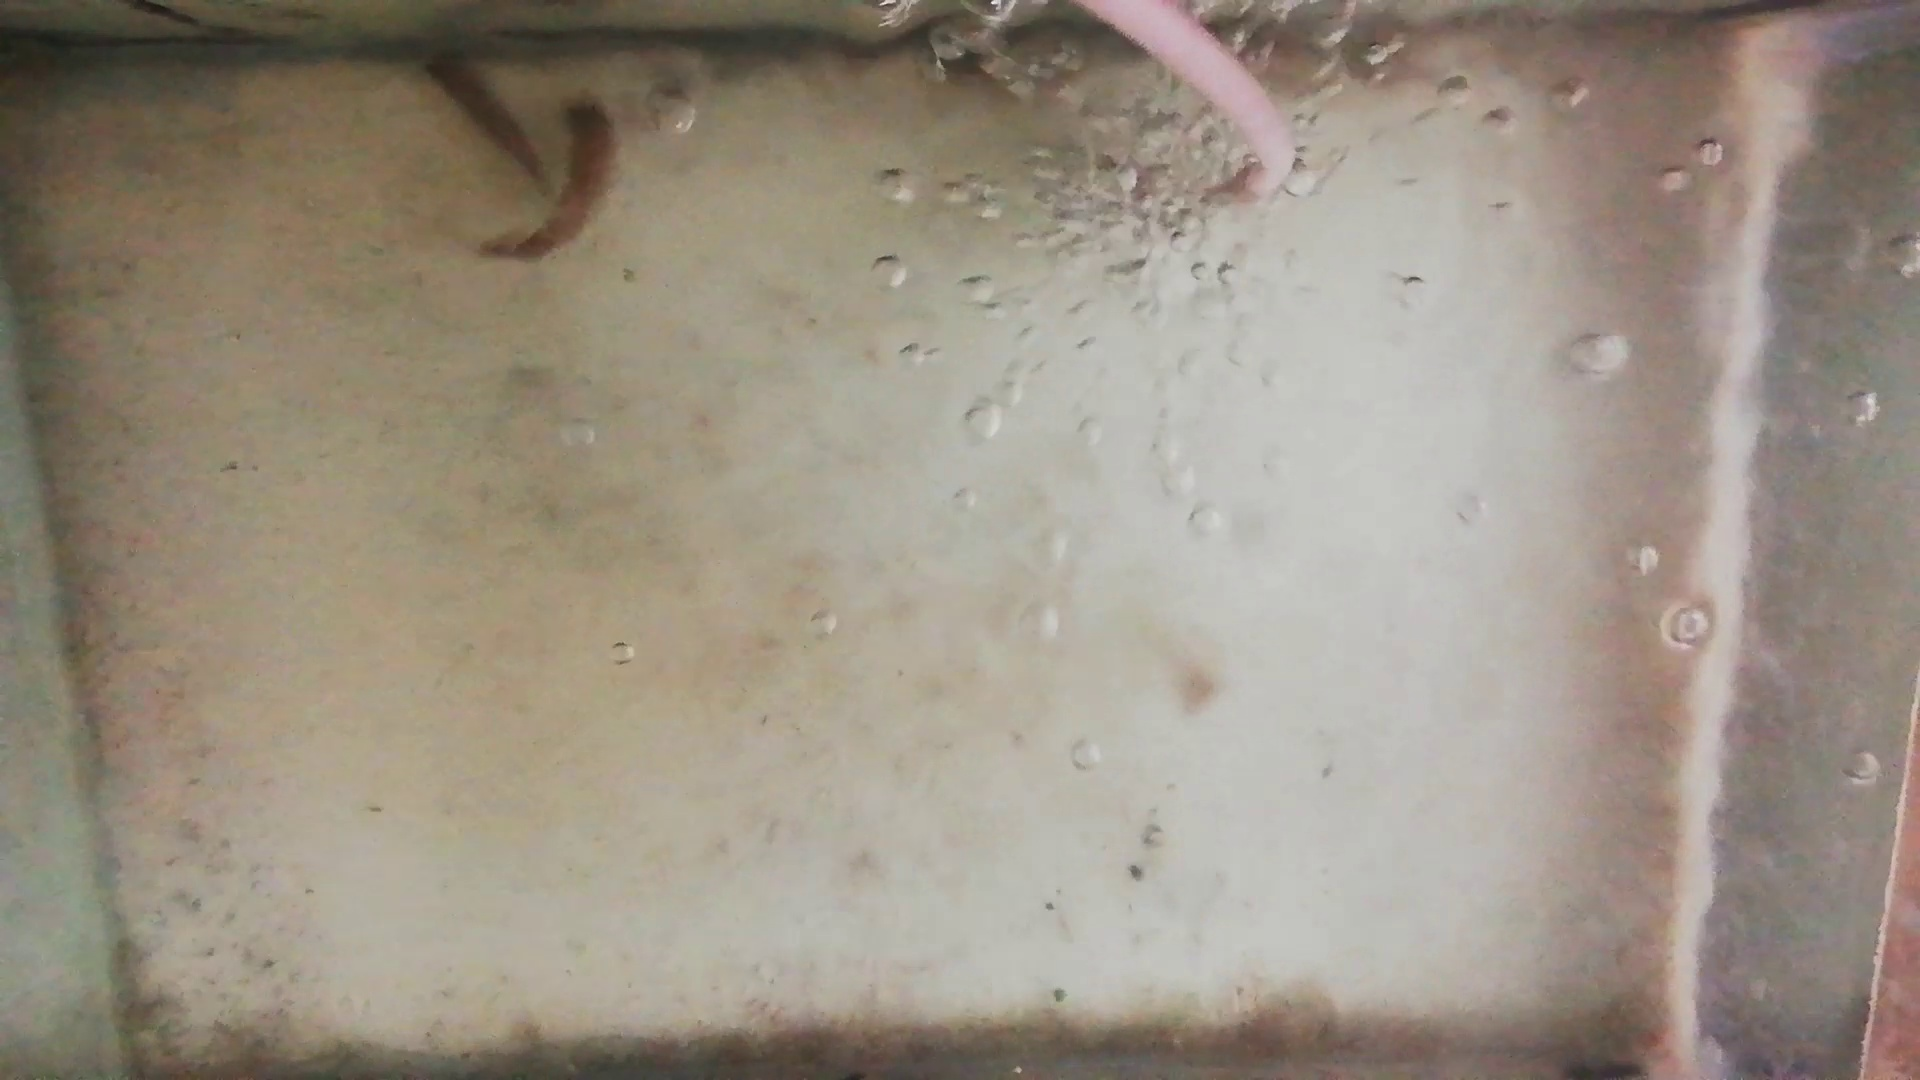fish: (487, 95, 613, 256), (419, 42, 550, 193)
